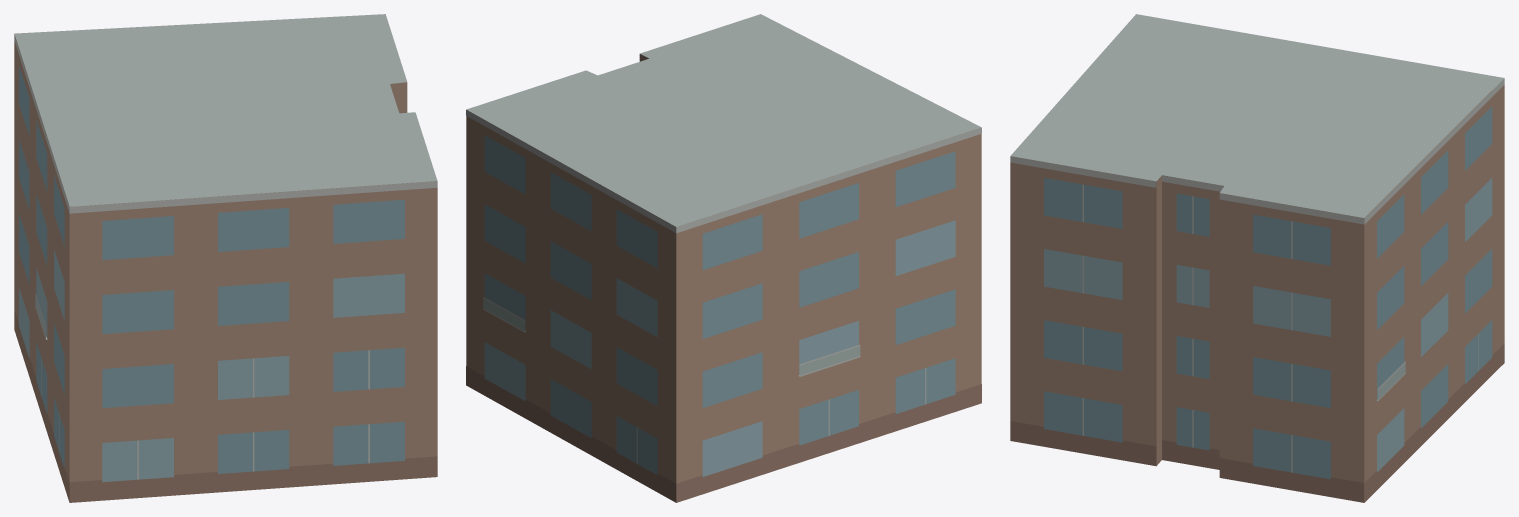
Rendered from survey-upis-33003219.glb.
3 renders of one model, left to right at view 1: azimuth 30°, elevation 25°; view 2: azimuth 150°, elevation 25°; view 3: azimuth 270°, elevation 25°, orthographic. The views are drawn at different scales.
Parts seen in each view (by area): view 1: survey-upis-33003219.tmp; view 2: survey-upis-33003219.tmp; view 3: survey-upis-33003219.tmp.
Part boxes in pixels (x1,y1,x2,y2): survey-upis-33003219.tmp: [14, 14, 437, 502]; survey-upis-33003219.tmp: [466, 14, 981, 502]; survey-upis-33003219.tmp: [1010, 14, 1504, 502].
Size of the model in its own units: 16.41 by 10.67 by 16.79.
